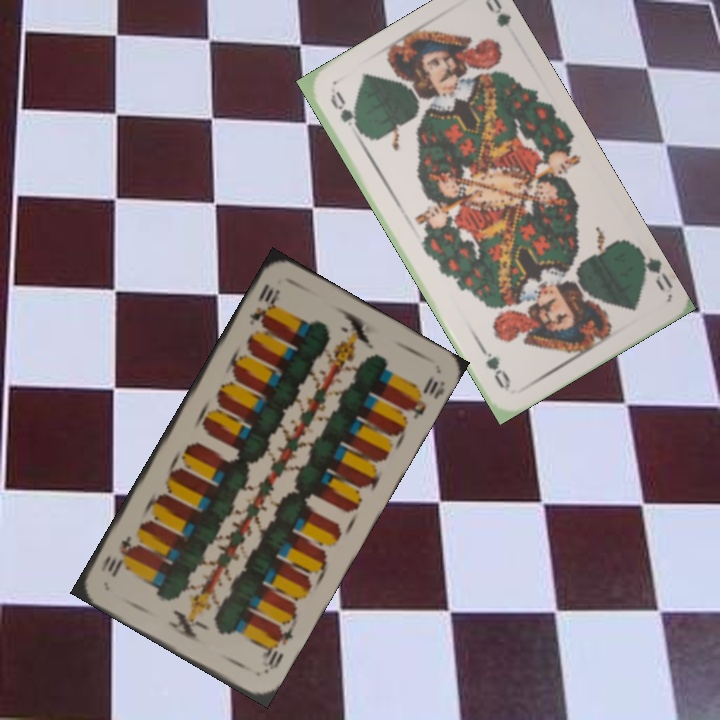E10: (257, 621, 296, 677), (245, 279, 283, 329)
GO: (326, 87, 367, 138), (633, 244, 674, 294)
